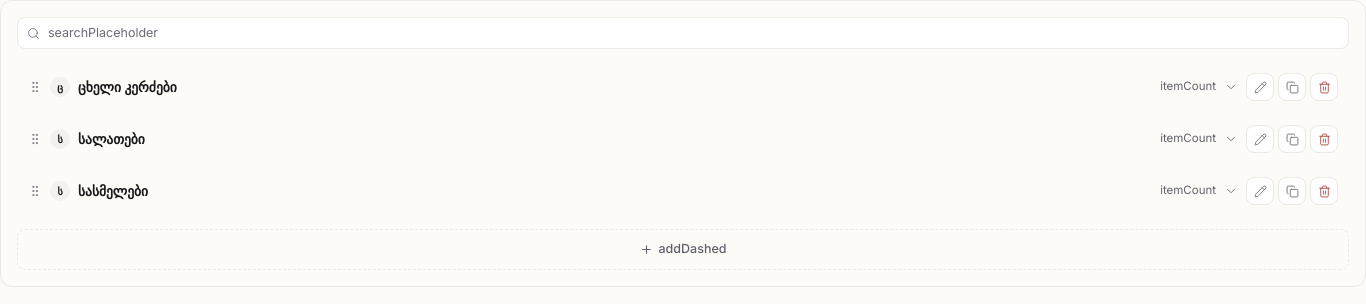
Test: CategoriesList › search › filters rows client-side, matching any of ka/en/ru
Type "salad" into the search field with test id "categories-search".
click(693, 33); type("salad")  # box top-left (48, 24), bottom-right (1338, 42)
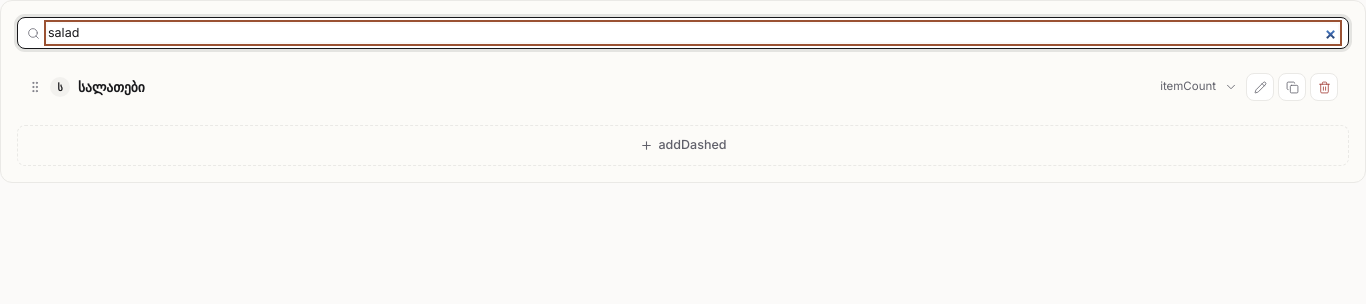
Result: the number of list items with test id "category-row" is 1 at top-left (28, 73), bottom-right (1338, 101)
Replace the text in the search field with test id "categories-search" with "Напитки" at (693, 33), box top-left (48, 24), bottom-right (1338, 42)
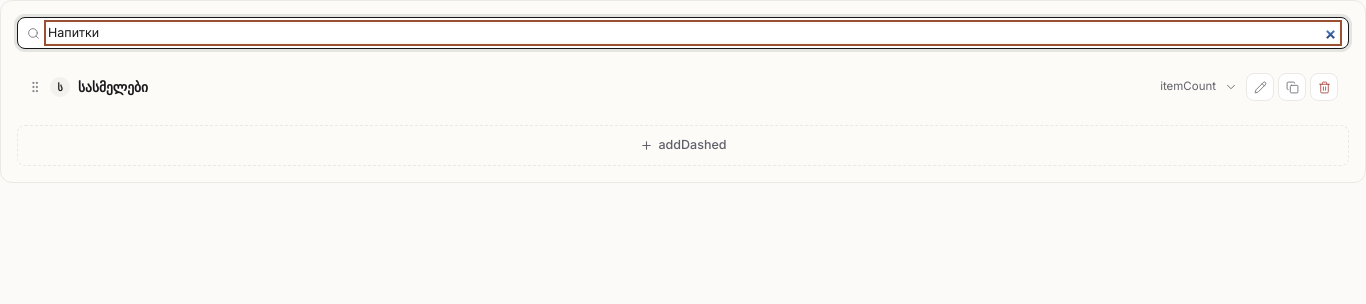
Result: the number of list items with test id "category-row" is 1 at top-left (28, 73), bottom-right (1338, 101)
